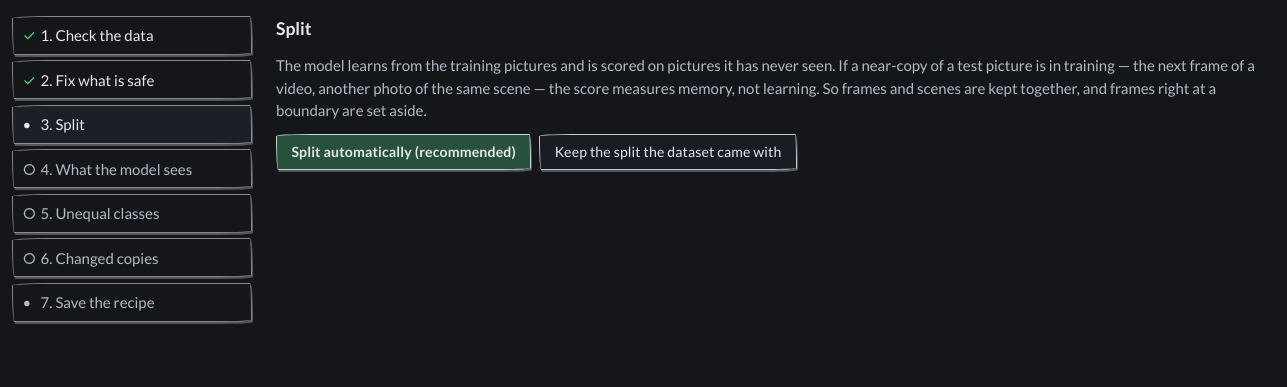
recommendations arrive after the first render › shows the server’s reason when a step is missing
Click the button "• 7. Save the recipe" at (132, 302), box [12,283,252,322]
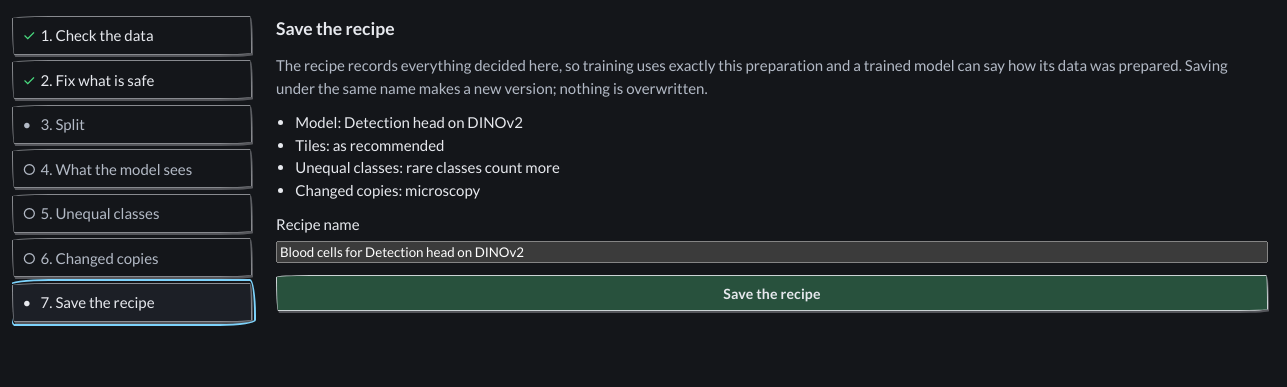
Click the button "Save the recipe" at (772, 293), box [276,275,1268,311]
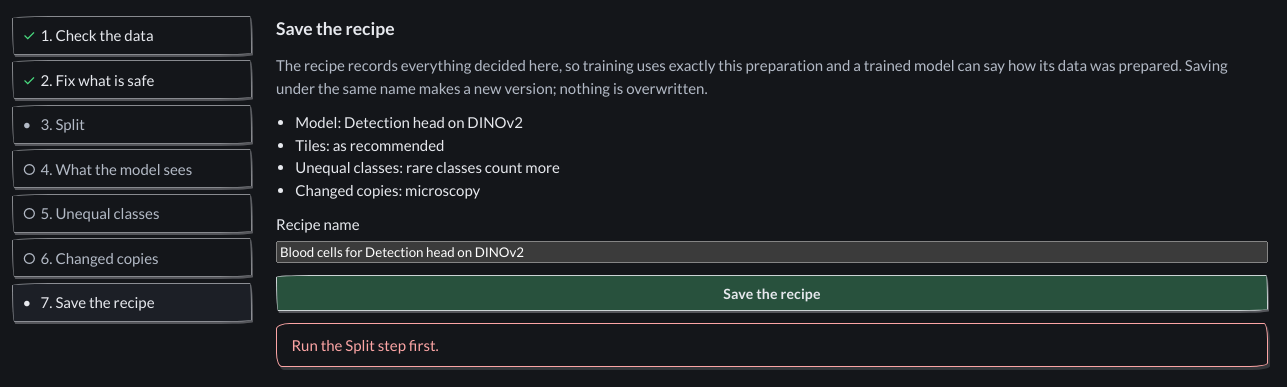
Expected: the message reads "Run the Split step first.", [291,336,439,354]
